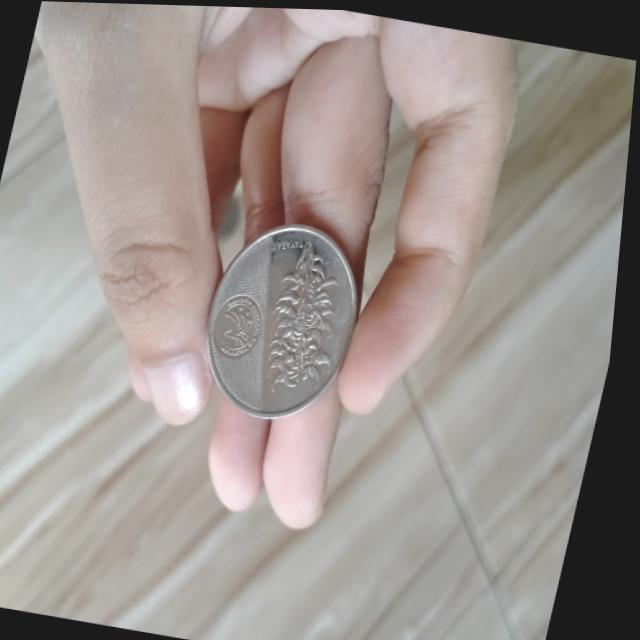5_New_Back: (252, 223, 375, 404)
